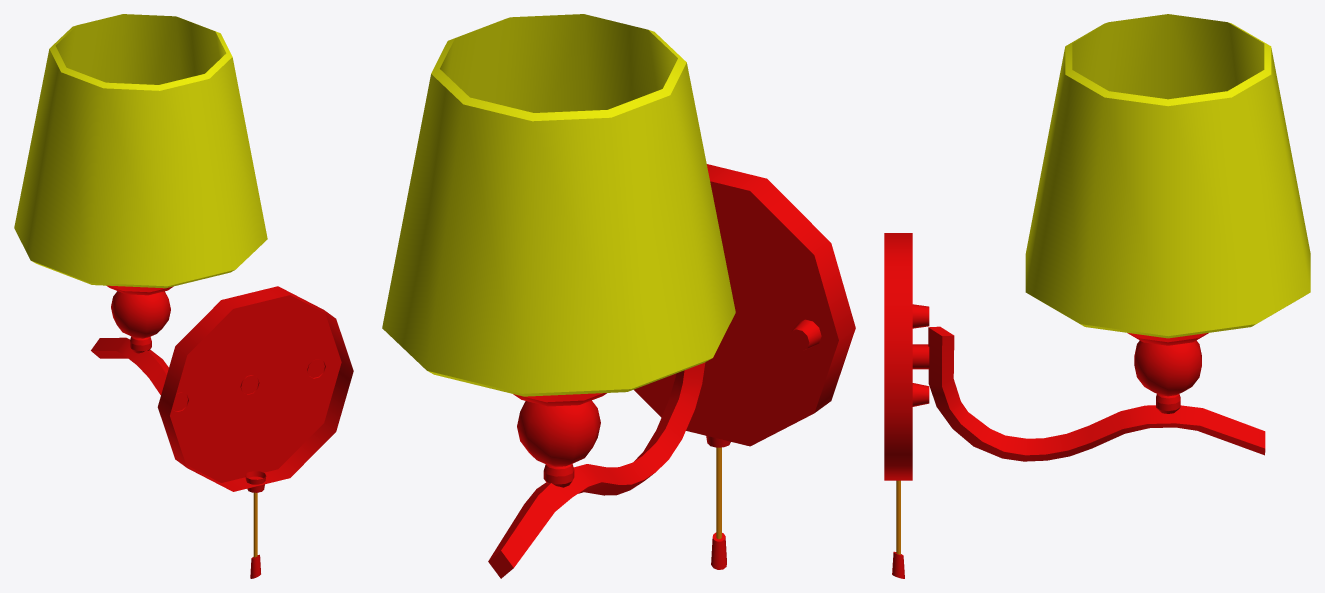
Rendered from Wall_Lamp_1.fbx.
The picture shows the model from 3 angles, left to right: view 1: azimuth 30°, elevation 25°; view 2: azimuth 150°, elevation 25°; view 3: azimuth 270°, elevation 25°; orthographic projection. The views are drawn at different scales.
Parts seen in each view (by area): view 1: Wall_Lamp_1; view 2: Wall_Lamp_1; view 3: Wall_Lamp_1.
Boxes of the visible parts, bbox=[...] form: Wall_Lamp_1: bbox=[14, 14, 353, 578]; Wall_Lamp_1: bbox=[382, 14, 855, 578]; Wall_Lamp_1: bbox=[884, 14, 1310, 578].
Bounding box in the file's own units: 44.43 × 85.53 × 63.24.
